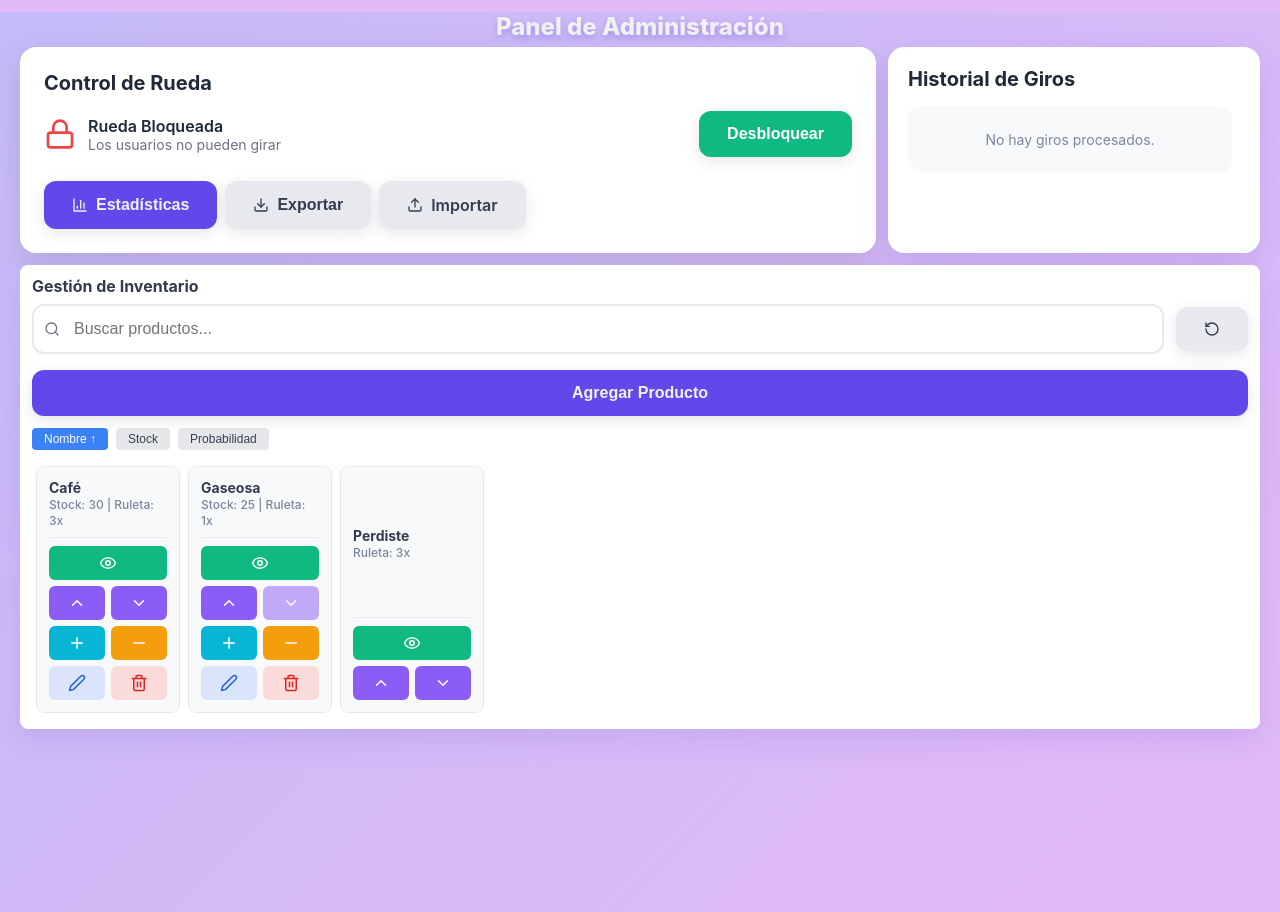
AdminPage › should show no results when search has no matches
Type "xyz123" into the field with placeholder "Buscar productos..." at [598, 329], box 32,304 -> 1164,354
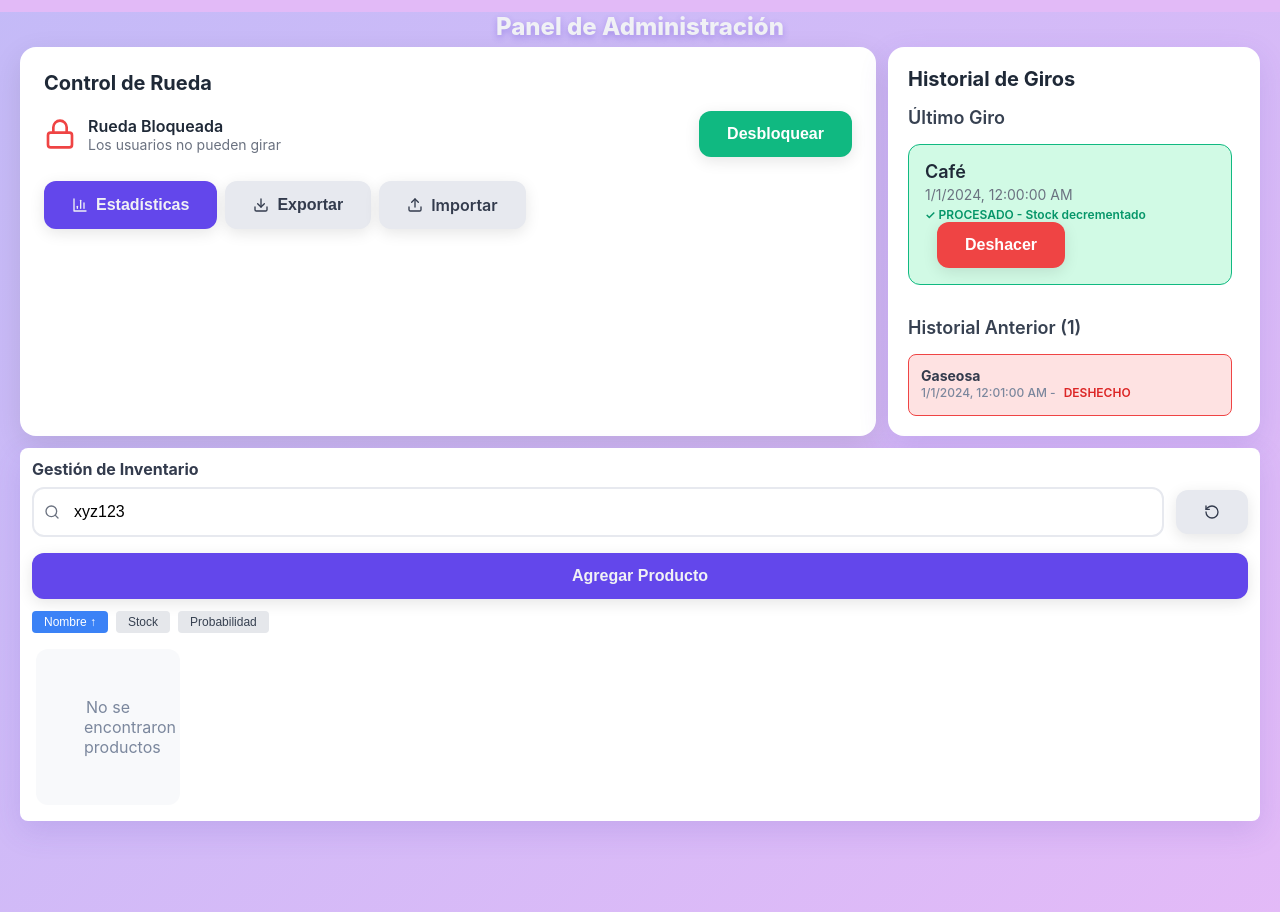
Expected: the text "No se encontraron productos" is shown, 36,649 -> 180,805
